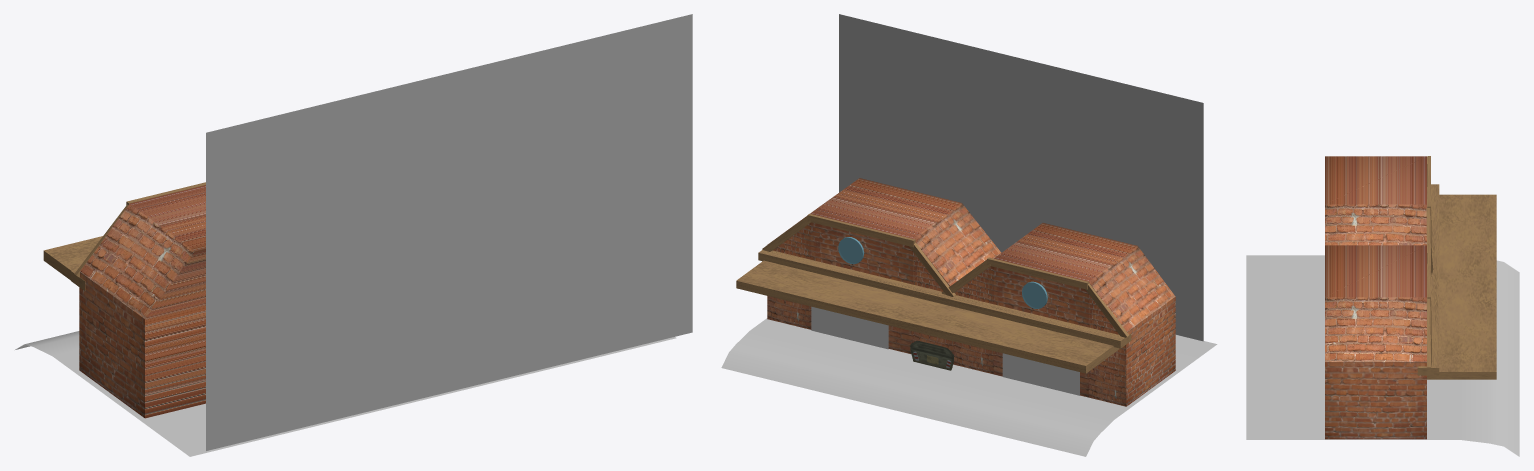
Rendered from modulo-tres.fbx.
3 renders of one model, left to right at view 1: azimuth 30°, elevation 25°; view 2: azimuth 150°, elevation 25°; view 3: azimuth 270°, elevation 25°, orthographic. The views are drawn at different scales.
Visible parts, largest first — view 1: pasted__pasted__pPlane2, pasted__pCube4, pasted__pasted__pasted__pasted__pPlane2, pCube6; view 2: pasted__pasted__pPlane2, pasted__pasted__pasted__pasted__pPlane2, pasted__pCube4, pasted__pasted__pCube4, pCube6, pasted__pasted__pCube6, pasted__pPlane1, pPlane1, pasted__pCube7 (×2), pasted__pasted__pCube7, pCube8, pasted__pCylinder1 (+2 smaller); view 3: pasted__pasted__pasted__pasted__pPlane2, pasted__pasted__pCube4, pCube6, pasted__pCube4, pasted__pasted__pCube6, pasted__pasted__pCube7.
Boxes of the visible parts, x1,y1,x2,y2 form: pasted__pasted__pPlane2: (206, 14, 692, 450); pasted__pCube4: (79, 185, 205, 418); pasted__pasted__pasted__pasted__pPlane2: (15, 331, 676, 456); pCube6: (43, 236, 102, 280); pasted__pasted__pPlane2: (839, 14, 1203, 341); pasted__pasted__pasted__pasted__pPlane2: (721, 318, 1217, 456); pasted__pCube4: (953, 223, 1175, 406); pasted__pasted__pCube4: (767, 178, 1001, 364); pCube6: (736, 260, 1119, 373); pasted__pasted__pCube6: (758, 250, 1131, 348); pasted__pPlane1: (811, 306, 888, 349); pPlane1: (1002, 353, 1079, 395); pasted__pCube7 (×2): (909, 242, 1088, 296); pasted__pasted__pCube7: (807, 213, 915, 247); pCube8: (910, 340, 953, 370); pasted__pCylinder1: (838, 237, 864, 264); pasted__pasted__pasted__pasted__pPlane2: (1246, 255, 1519, 456); pasted__pasted__pCube4: (1325, 245, 1426, 439); pCube6: (1427, 194, 1496, 379); pasted__pCube4: (1325, 156, 1426, 245); pasted__pasted__pCube6: (1417, 184, 1439, 375); pasted__pasted__pCube7: (1427, 298, 1431, 367).
Bounding box in the file's own units: 166 × 107 × 100.
